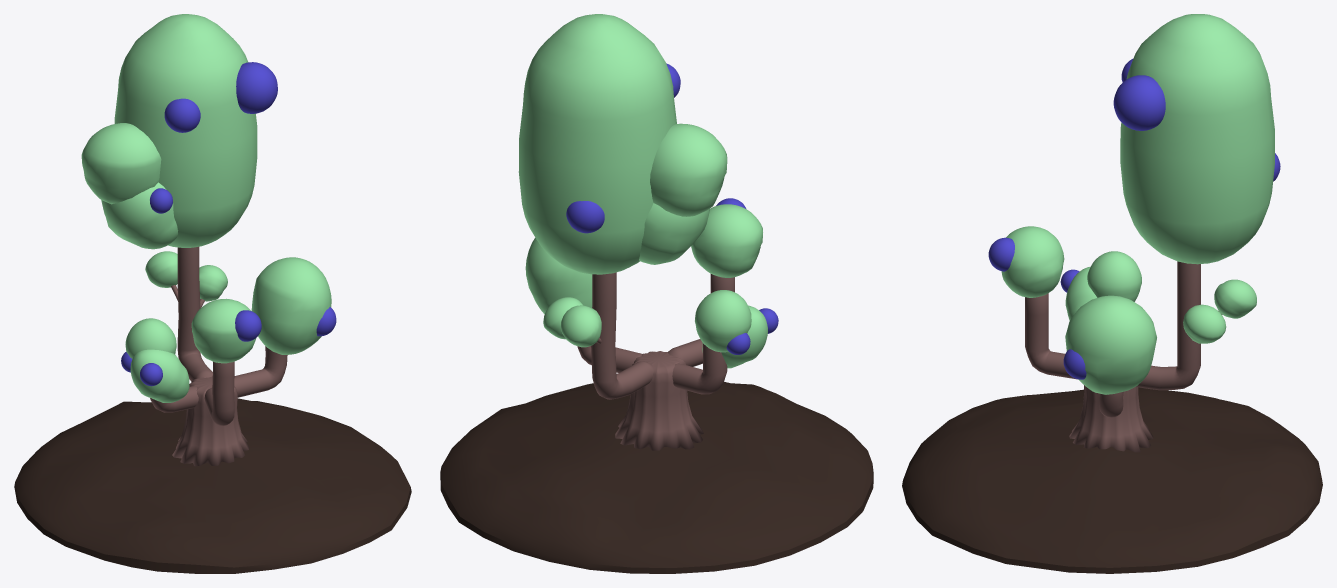
File: Tree_And_Mound1.fbx
3 renders of one model, left to right at view 1: azimuth 30°, elevation 25°; view 2: azimuth 150°, elevation 25°; view 3: azimuth 270°, elevation 25°, orthographic. The views are drawn at different scales.
Visible parts, largest first — view 1: polySurface655, polySurface509, polySurface511, polySurface494; view 2: polySurface655, polySurface509, polySurface511, polySurface494; view 3: polySurface655, polySurface509, polySurface511, polySurface494.
Part boxes in pixels (box(x1,y1,x2,y2)): polySurface655: box(14, 398, 411, 573); polySurface509: box(81, 14, 331, 402); polySurface511: box(150, 246, 287, 466); polySurface494: box(121, 62, 336, 386); polySurface655: box(440, 381, 873, 573); polySurface509: box(518, 14, 767, 368); polySurface511: box(577, 272, 734, 450); polySurface494: box(566, 63, 778, 354); polySurface655: box(902, 387, 1322, 573); polySurface509: box(1001, 14, 1274, 394); polySurface511: box(1025, 261, 1222, 452); polySurface494: box(988, 58, 1280, 379).
Size of the model in its own units: 37.48 by 46.67 by 37.51.
